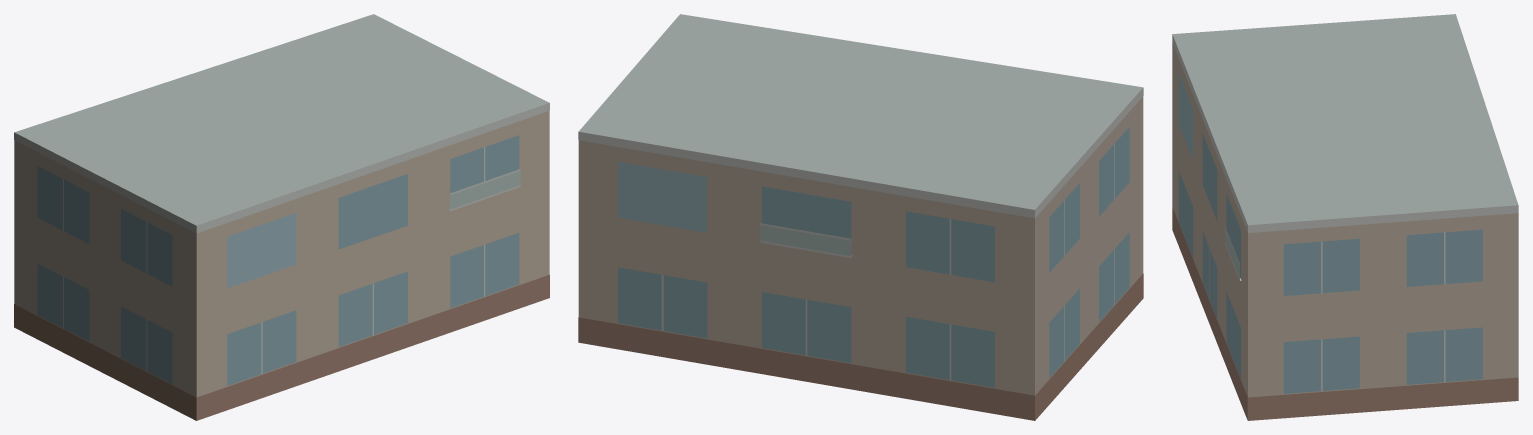
The model's file is survey-upis-32743176.glb.
3 views of the same model, side by side, from view 1: azimuth 30°, elevation 25°; view 2: azimuth 150°, elevation 25°; view 3: azimuth 270°, elevation 25° (orthographic). The views are drawn at different scales.
Parts seen in each view (by area): view 1: survey-upis-32743176.tmp; view 2: survey-upis-32743176.tmp; view 3: survey-upis-32743176.tmp.
Boxes of the visible parts, bbox=[...] form: survey-upis-32743176.tmp: bbox=[14, 14, 549, 420]; survey-upis-32743176.tmp: bbox=[578, 14, 1143, 420]; survey-upis-32743176.tmp: bbox=[1172, 14, 1518, 420].
Bounding box in the file's own units: 14.14 × 6.1 × 9.8.
